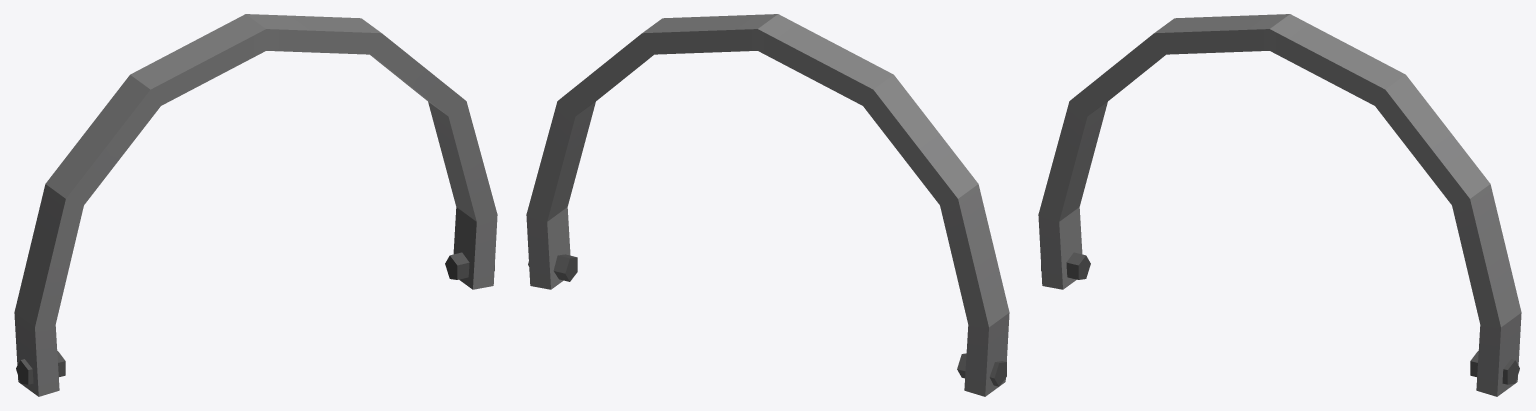
Rendered from Mesh_Props_Bucket_02.FBX.
3 renders of one model, left to right at view 1: azimuth 30°, elevation 25°; view 2: azimuth 150°, elevation 25°; view 3: azimuth 330°, elevation 25°, orthographic.
Visible parts, largest first — view 1: Mesh_Props_Bucket_02; view 2: Mesh_Props_Bucket_02; view 3: Mesh_Props_Bucket_02.
Boxes of the visible parts, x1,y1,x2,y2 form: Mesh_Props_Bucket_02: [14, 14, 497, 396]; Mesh_Props_Bucket_02: [526, 14, 1009, 396]; Mesh_Props_Bucket_02: [1038, 14, 1521, 396].
Size of what is drawn, in the model's own units: 47.59 by 3.62 by 30.45.
